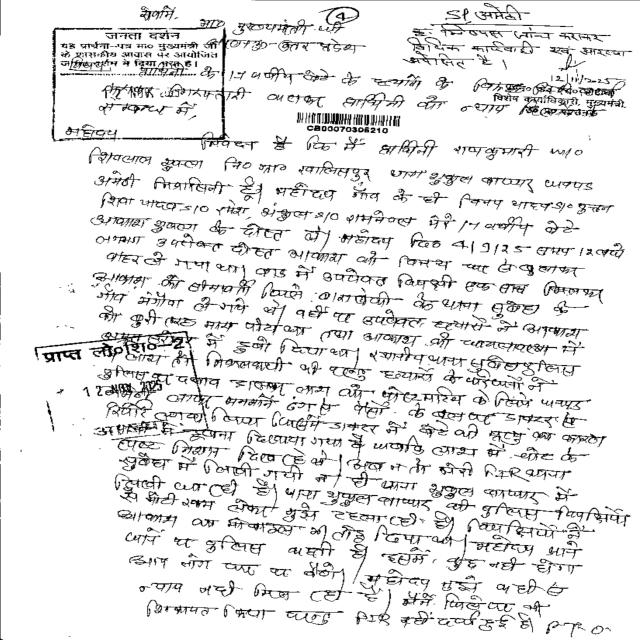antritgovtstamp: (22, 332, 220, 434)
barcode: (297, 108, 405, 134)
jantadarsan: (52, 26, 228, 144)
